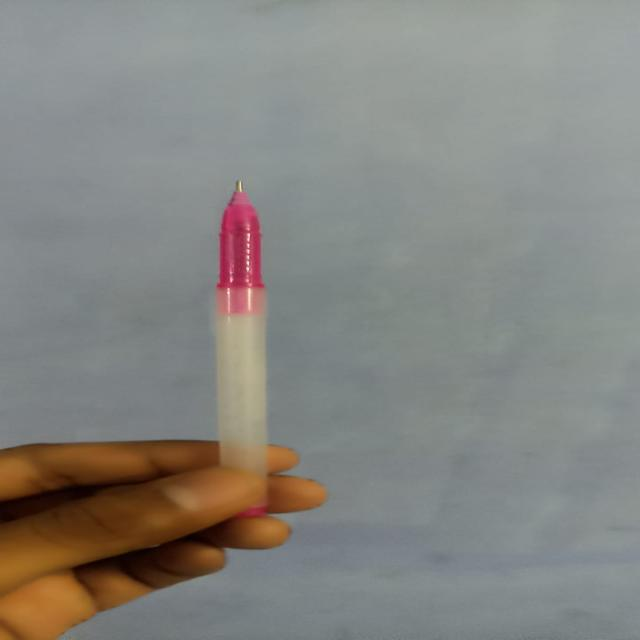pen: (196, 169, 322, 532)
